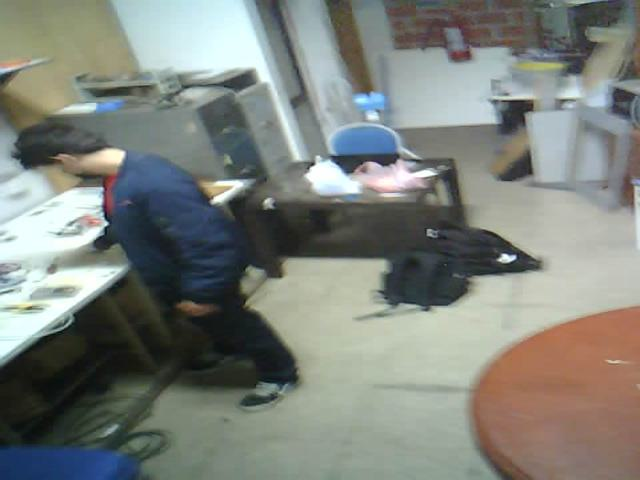person: (3, 100, 312, 423)
